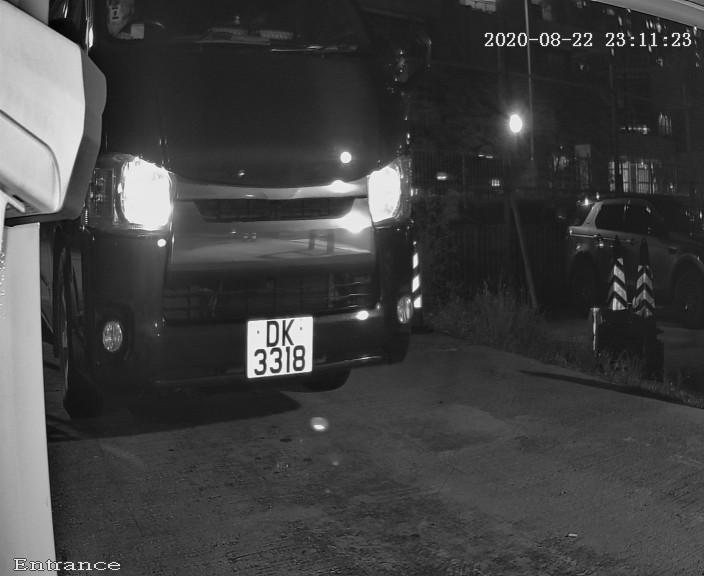Car: (1, 1, 494, 466)
License Plate: (239, 314, 318, 384)
